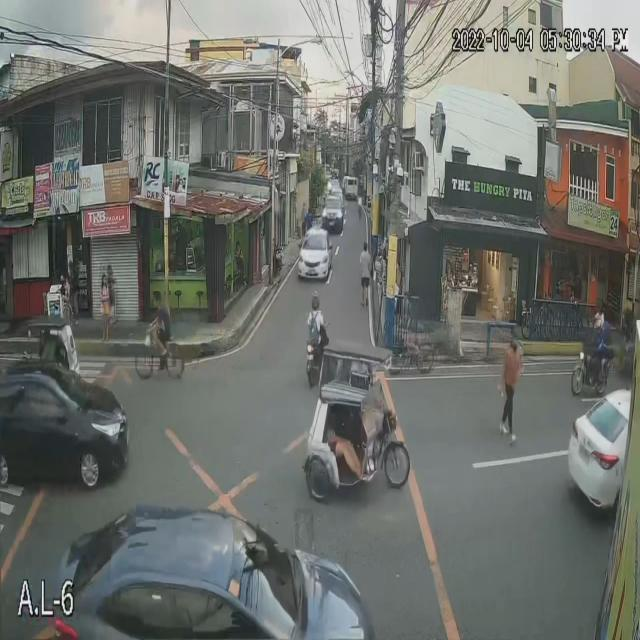Full-Faced: (593, 308, 608, 332), (310, 292, 324, 314)
